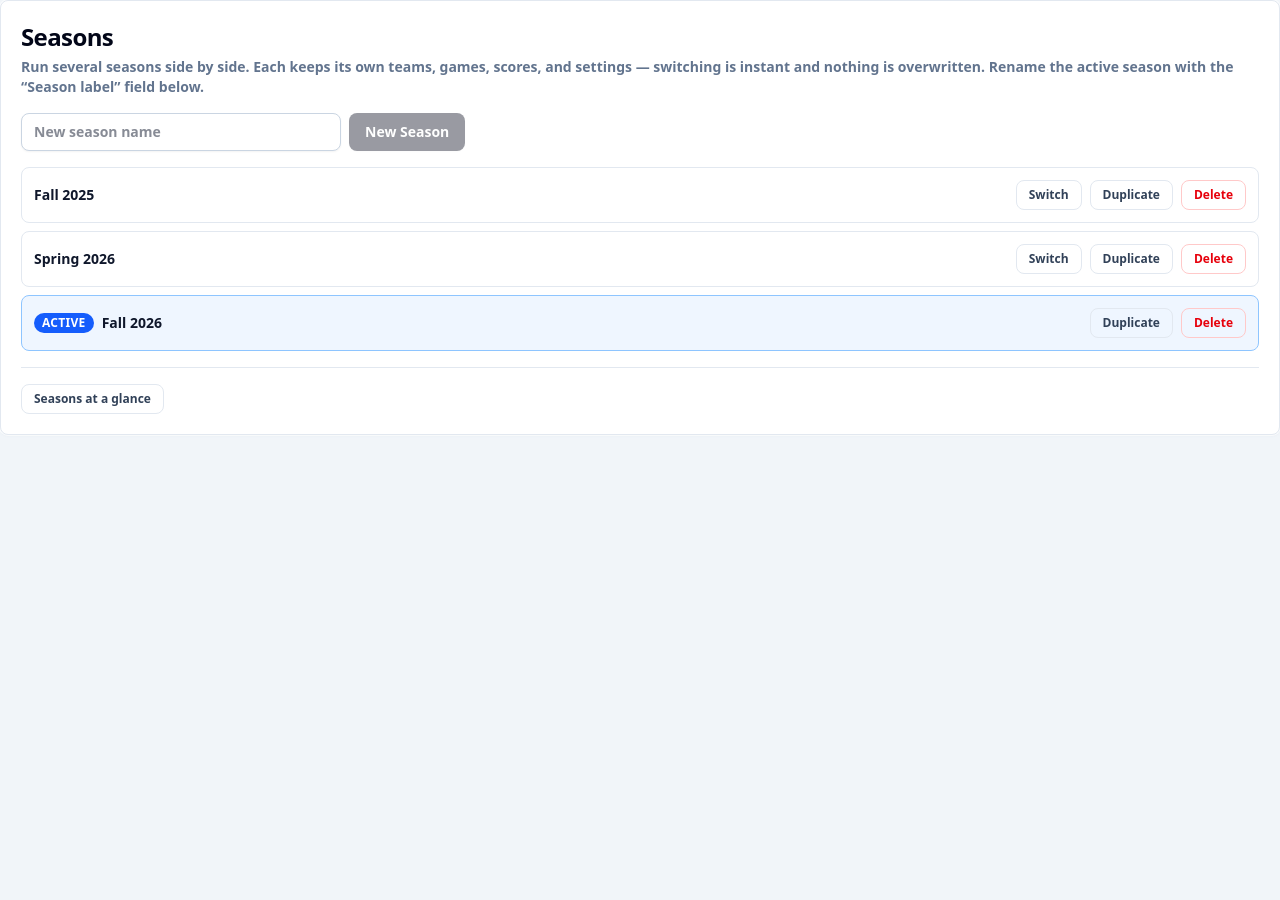
Scenario: the seasons at a glance › marks a season League kept live has a copy of, other than the open one, as maybe behind
Click the button "Seasons at a glance" at (92, 399), box [21,384,164,414]
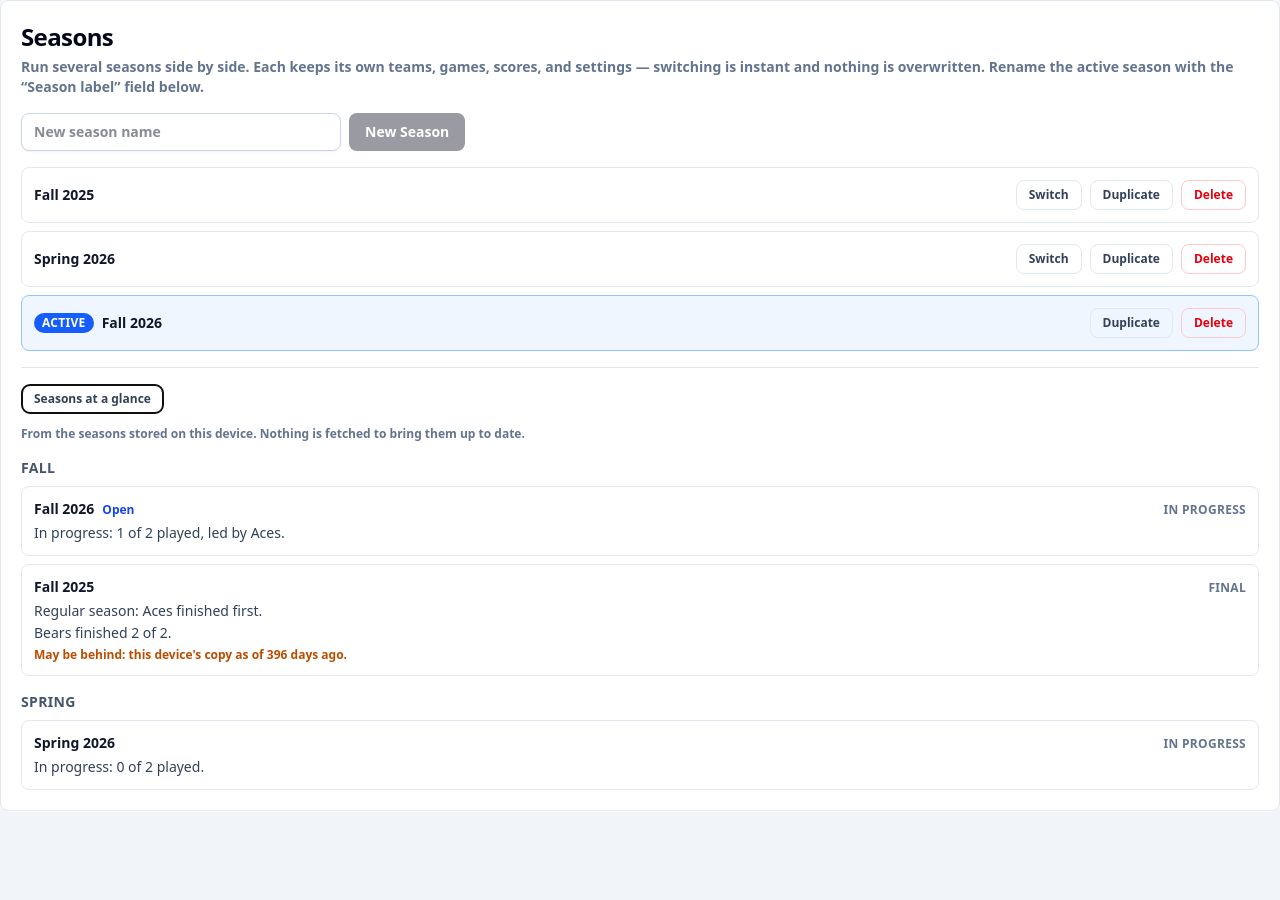
expect the text "May be behind: this device's copy as of 396 days ago." is shown: met, box [34,646,347,663]
